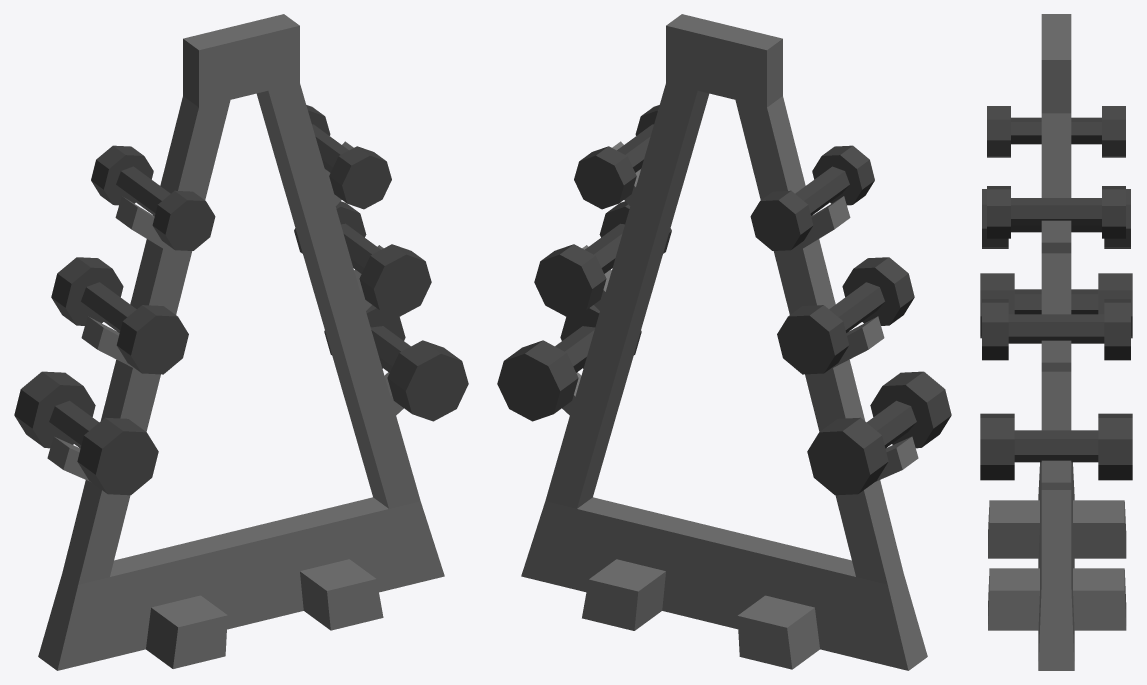
The model's file is SM_Props_Gym_04.fbx.
The picture shows the model from 3 angles, left to right: view 1: azimuth 30°, elevation 25°; view 2: azimuth 150°, elevation 25°; view 3: azimuth 270°, elevation 25°; orthographic projection. The views are drawn at different scales.
Visible parts, largest first — view 1: SM_Props_Gym_04; view 2: SM_Props_Gym_04; view 3: SM_Props_Gym_04.
Part boxes in pixels (bbox=[...]): SM_Props_Gym_04: bbox=[14, 14, 468, 670]; SM_Props_Gym_04: bbox=[497, 14, 951, 670]; SM_Props_Gym_04: bbox=[980, 14, 1132, 670].
Size of the model in its own units: 0.699 by 1.01 by 0.2546.
